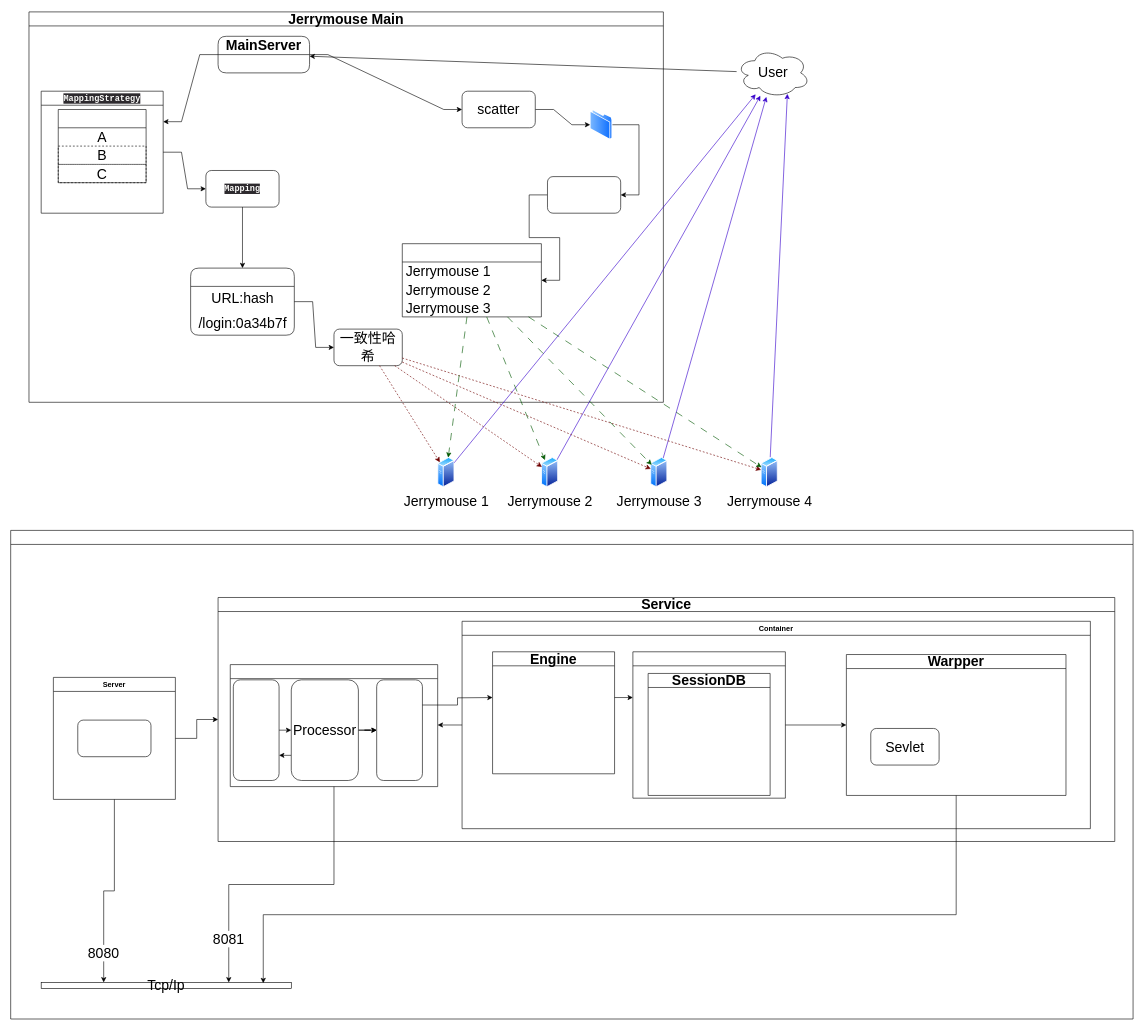
This 1144x1030 diagram has some shape labels left out. The box of each missing label's shape, as (x1, y1, x2, y2) in pixels:
Adapetr: (376, 679, 422, 780)
Connector: (230, 664, 438, 787)
Context: (632, 651, 785, 798)
End point: (233, 679, 279, 780)
init: (77, 719, 151, 757)
Jerrymouse: (10, 530, 1133, 1019)
MappingTable: (190, 267, 294, 335)
ServerList: (402, 243, 541, 317)
SessionList: (58, 109, 146, 183)
war: (547, 176, 621, 213)
